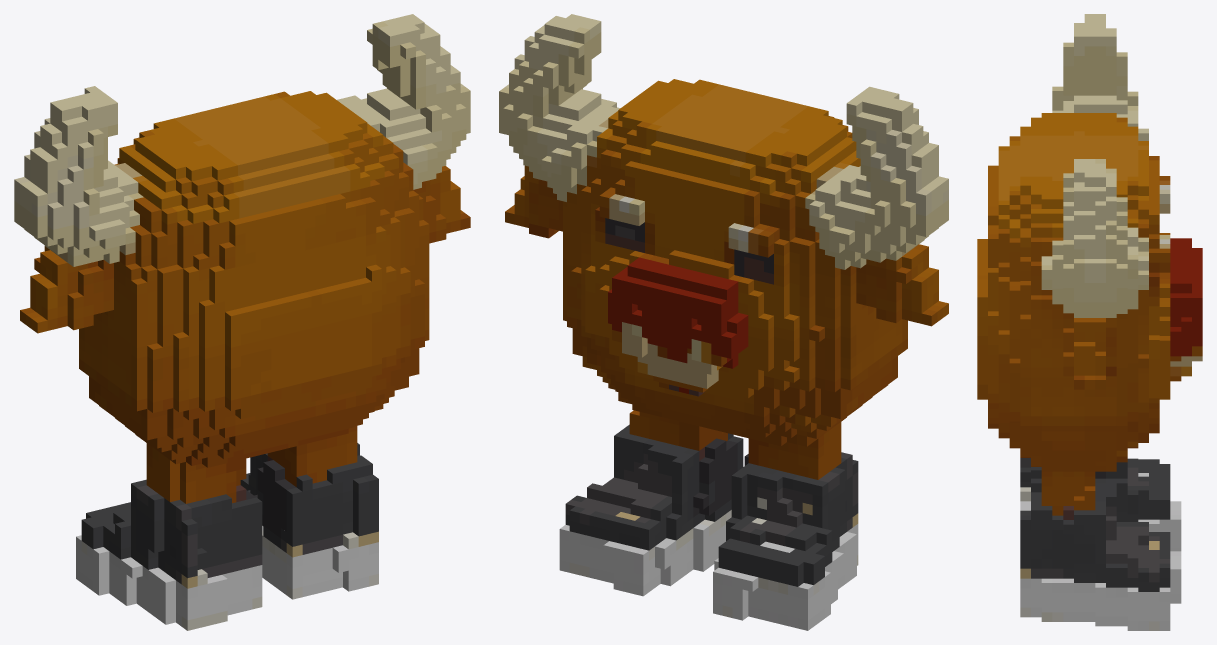
Rendered from ToroPalloncino.glb.
3 renders of one model, left to right at view 1: azimuth 30°, elevation 25°; view 2: azimuth 150°, elevation 25°; view 3: azimuth 270°, elevation 25°, orthographic. The views are drawn at different scales.
Parts seen in each view (by area): view 1: geometry_0; view 2: geometry_0; view 3: geometry_0.
Part boxes in pixels (x1=…): geometry_0: x1=14, y1=14, x2=470, y2=630; geometry_0: x1=499, y1=14, x2=948, y2=630; geometry_0: x1=977, y1=14, x2=1202, y2=630.
Size of the model in its own units: 0.8776 by 1 by 0.4286.
